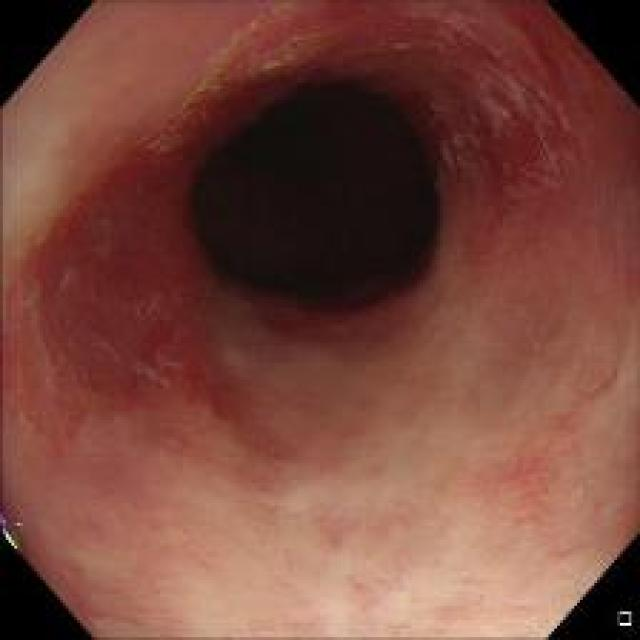color misalignment: (0, 502, 26, 560), (254, 54, 281, 81)
contrast: (190, 71, 454, 342)
